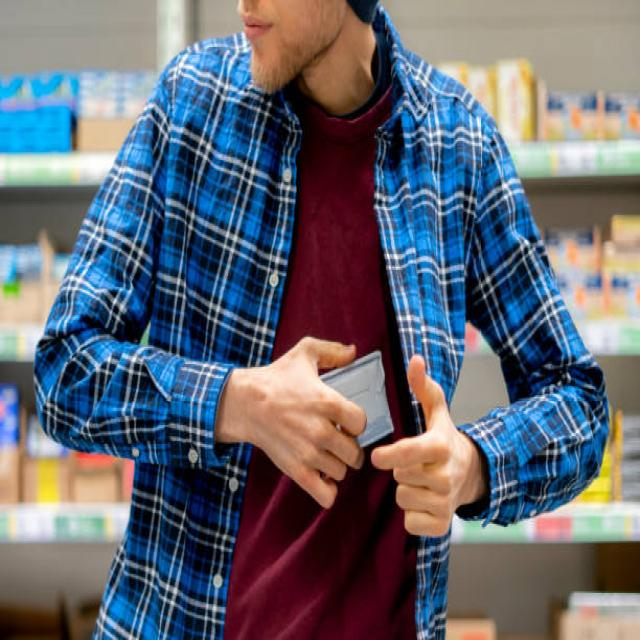article: (321, 351, 392, 445)
hands: (216, 336, 364, 508), (371, 355, 487, 535)
person: (35, 0, 608, 637)
